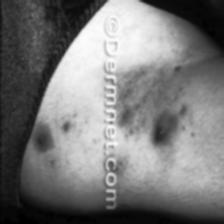Non-Cancerous Skin Condition: (153, 112, 173, 142), (32, 124, 52, 152), (172, 64, 181, 73)
